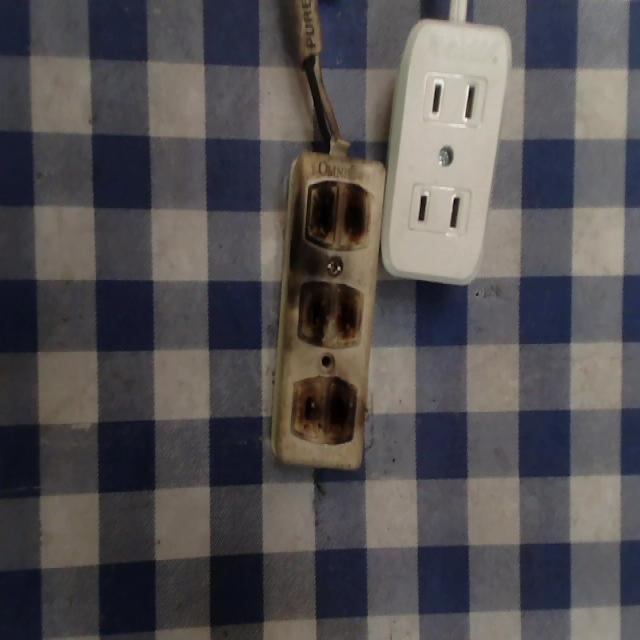-: (290, 375, 361, 449), (306, 179, 372, 257), (294, 280, 366, 349)
